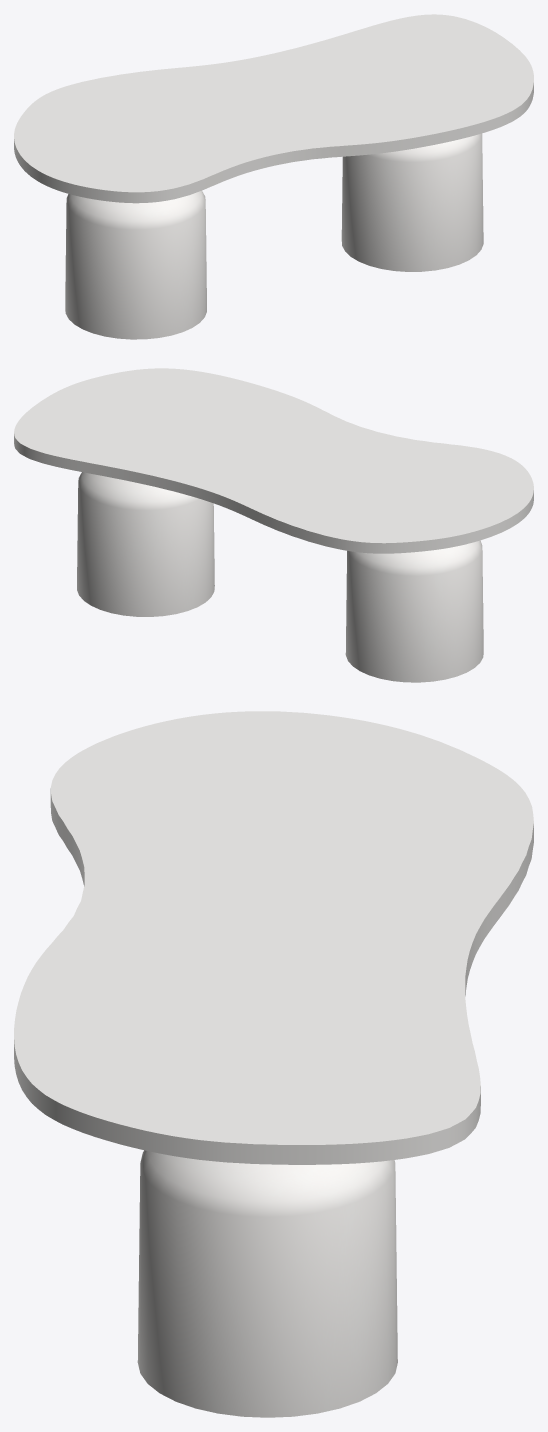
File: purewhite_wave_standard_tornado.glb
The picture shows the model from 3 angles, top to bottom: view 1: azimuth 30°, elevation 25°; view 2: azimuth 150°, elevation 25°; view 3: azimuth 270°, elevation 25°; orthographic projection. The views are drawn at different scales.
Parts seen in each view (by area): view 1: standard_wave, tornado; view 2: standard_wave, tornado; view 3: standard_wave, tornado.
Part boxes in pixels (<box>): standard_wave: <box>14,14,533,203</box>; tornado: <box>65,133,483,339</box>; standard_wave: <box>14,368,533,553</box>; tornado: <box>77,472,483,682</box>; standard_wave: <box>14,711,533,1164</box>; tornado: <box>137,1150,397,1417</box>.
Size of the model in its own units: 7.5 by 2.51 by 3.8.
1 material, 1 textured.
